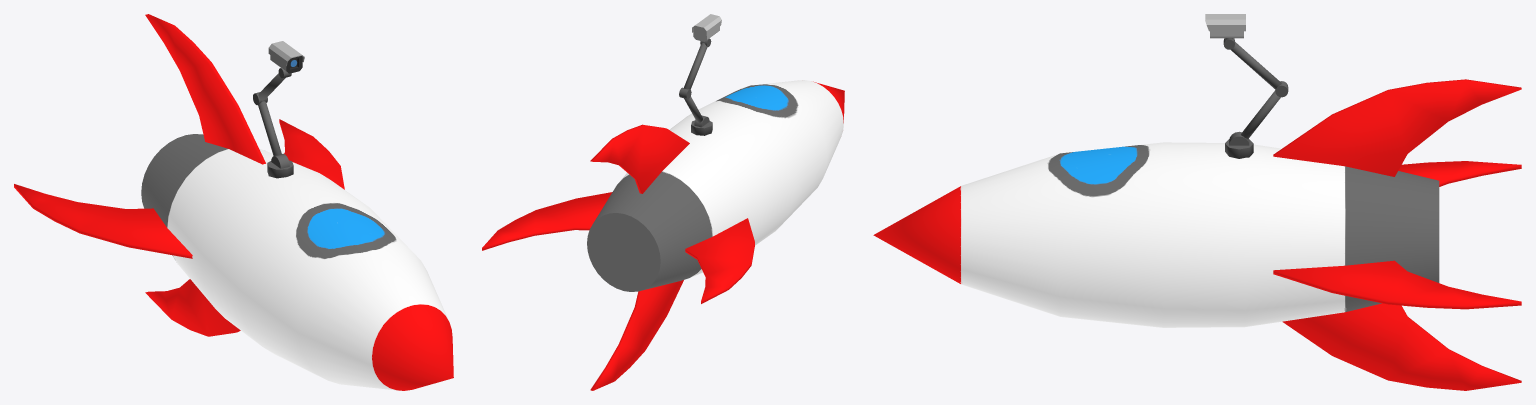
File: rocket2.glb
3 views of the same model, side by side, from view 1: azimuth 30°, elevation 25°; view 2: azimuth 150°, elevation 25°; view 3: azimuth 270°, elevation 25° (orthographic). The views are drawn at different scales.
Parts seen in each view (by area): view 1: rocket, camera; view 2: rocket, camera; view 3: rocket, camera.
Part boxes in pixels (<box>): rocket: <box>14,14,453,390</box>; camera: <box>253,41,304,178</box>; rocket: <box>482,80,844,390</box>; camera: <box>679,14,721,135</box>; rocket: <box>873,79,1521,390</box>; camera: <box>1205,14,1288,158</box>.
Bounding box in the file's own units: 3.91 × 4.71 × 7.42.
Materials: 5 (1 with a texture image).
